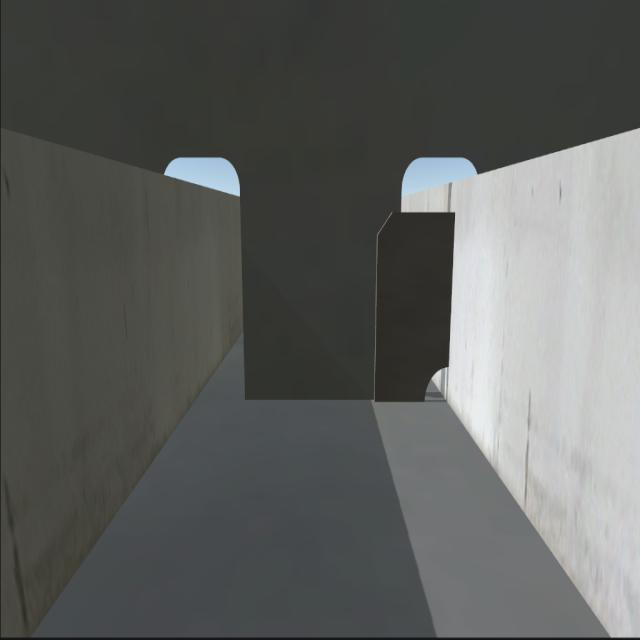fillet_hole: (420, 357, 451, 402)
fillet_yong_jeop_jang: (247, 390, 423, 408)
longi_yong_jeop_jang: (443, 211, 458, 365)
plate_CP03: (378, 210, 453, 401)
